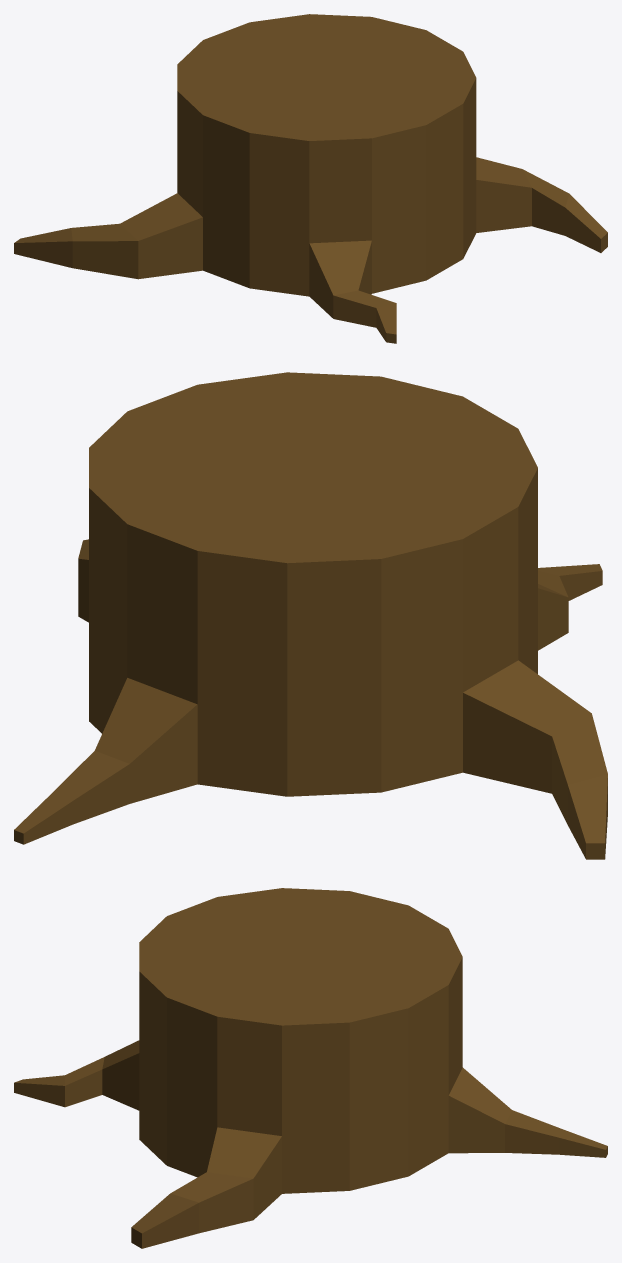
Rendered from Stump.fbx.
The picture shows the model from 3 angles, top to bottom: view 1: azimuth 30°, elevation 25°; view 2: azimuth 150°, elevation 25°; view 3: azimuth 270°, elevation 25°; orthographic projection. The views are drawn at different scales.
Parts seen in each view (by area): view 1: Cylinder; view 2: Cylinder; view 3: Cylinder.
Part boxes in pixels (bbox=[...]): Cylinder: bbox=[14, 14, 607, 343]; Cylinder: bbox=[14, 372, 607, 859]; Cylinder: bbox=[14, 888, 607, 1248].
Size of the model in its own units: 254 by 87.64 by 261.
